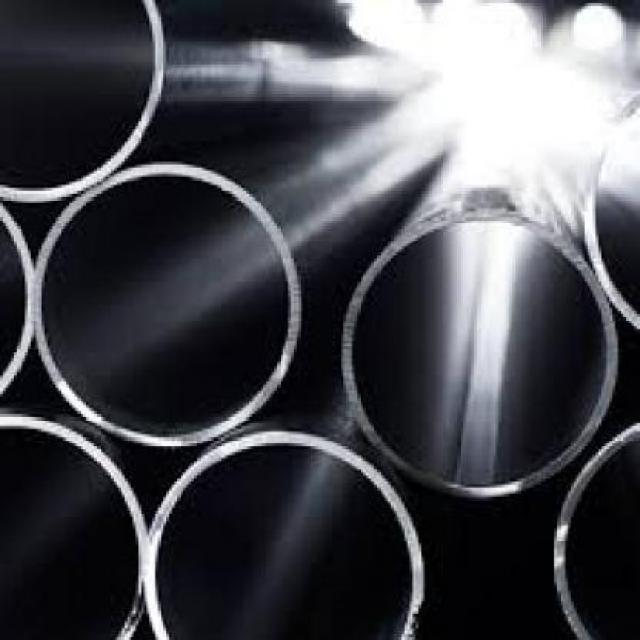pipe: (335, 207, 618, 501), (27, 161, 310, 450), (144, 429, 430, 640), (0, 0, 171, 206), (0, 406, 149, 640), (551, 418, 640, 640), (580, 79, 640, 330), (0, 206, 35, 404)
